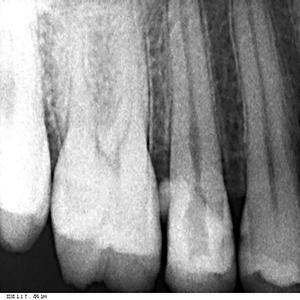tooth: (52, 0, 167, 286), (165, 0, 237, 287), (238, 0, 299, 284), (0, 2, 50, 251)
